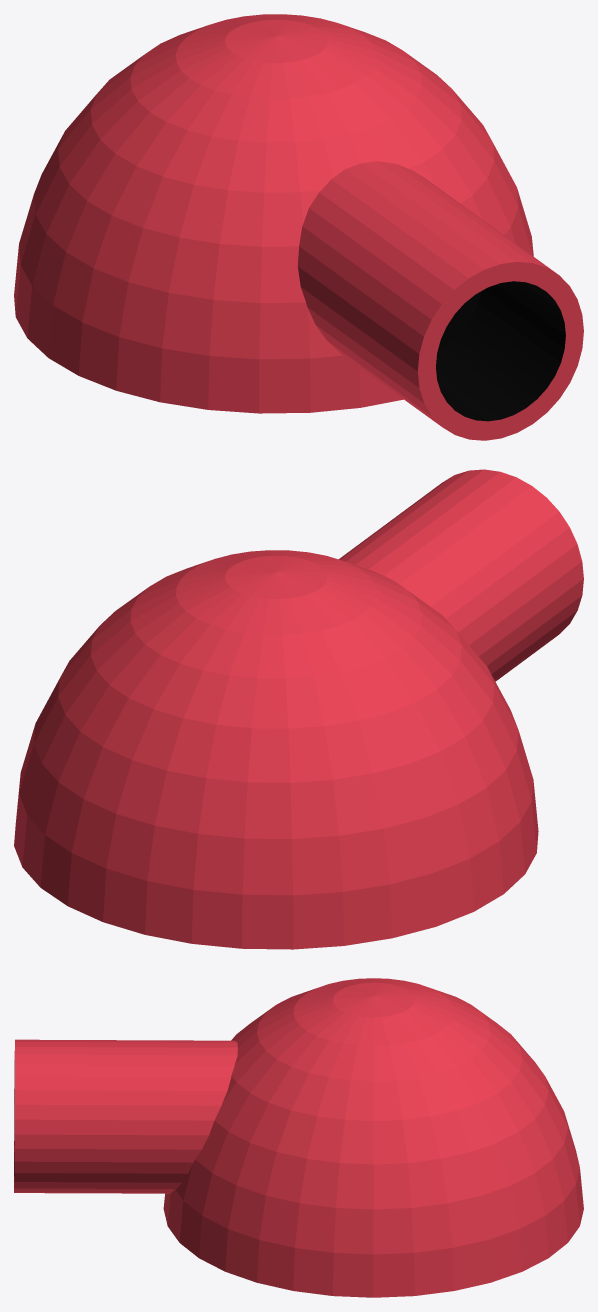
The model's file is RedTaihou.fbx.
3 views of the same model, one above another, from view 1: azimuth 30°, elevation 25°; view 2: azimuth 150°, elevation 25°; view 3: azimuth 270°, elevation 25° (orthographic). The views are drawn at different scales.
Visible parts, largest first — view 1: Cube; view 2: Cube; view 3: Cube.
Part boxes in pixels (x1,y1,x2,y2): Cube: [14, 14, 583, 440]; Cube: [14, 469, 583, 949]; Cube: [14, 978, 583, 1297].
Bounding box in the file's own units: 144 × 80.48 × 195.
